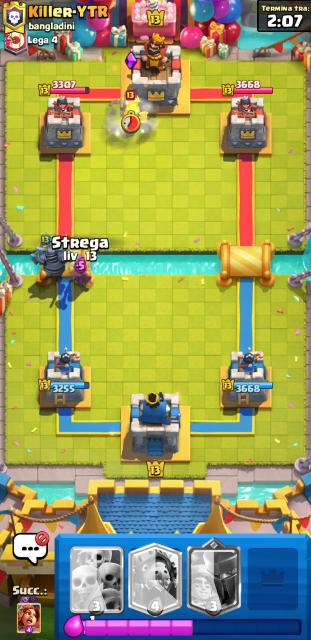ally_melee: (33, 233, 68, 283)
enemy_melee: (122, 91, 145, 124)
